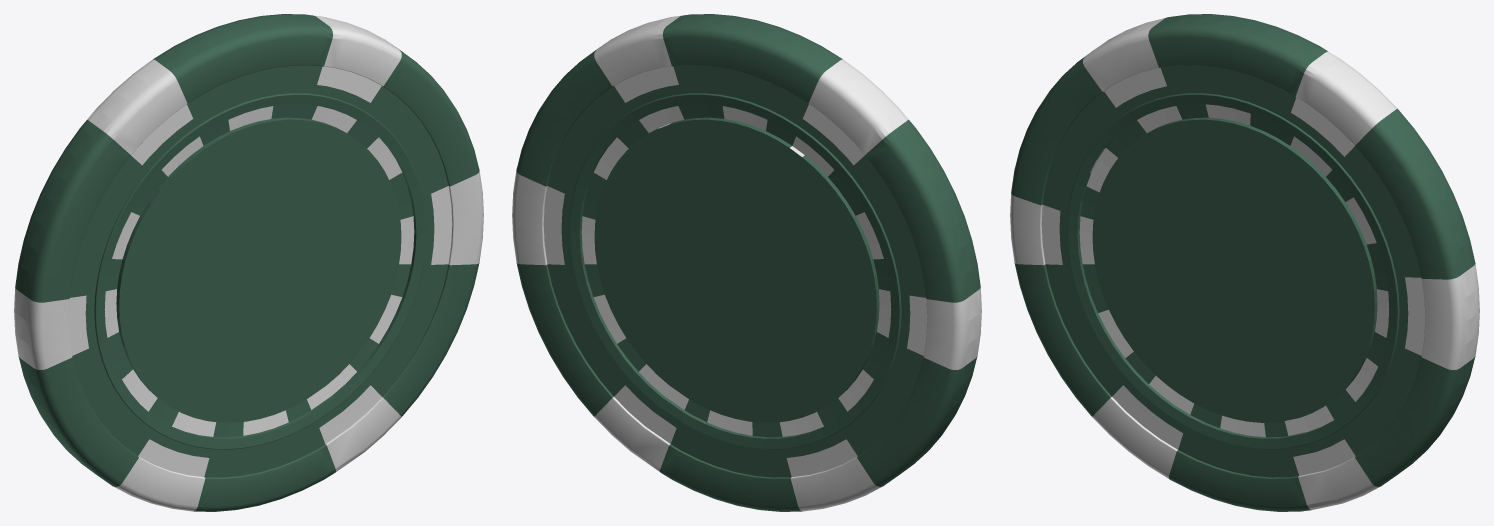
File: CHIPS_02.fbx
The picture shows the model from 3 angles, left to right: view 1: azimuth 30°, elevation 25°; view 2: azimuth 150°, elevation 25°; view 3: azimuth 330°, elevation 25°; orthographic projection.
Parts seen in each view (by area): view 1: chips.171; view 2: chips.171; view 3: chips.171.
Part boxes in pixels (box(x1,y1,x2,y2)): chips.171: box(14, 14, 483, 511); chips.171: box(512, 14, 981, 511); chips.171: box(1010, 14, 1479, 511).
Size of the model in its own units: 200 by 200 by 18.82.
